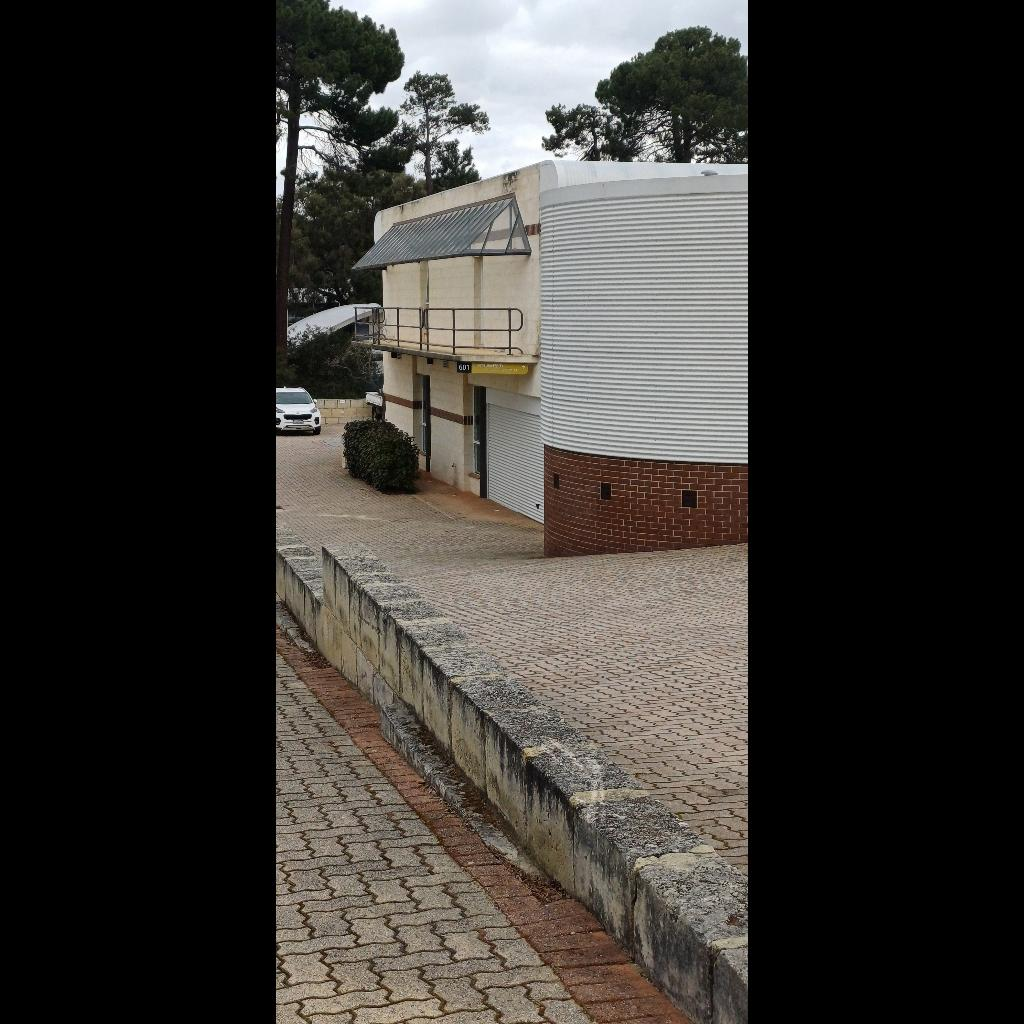BuildingCodes: (455, 360, 475, 374)
